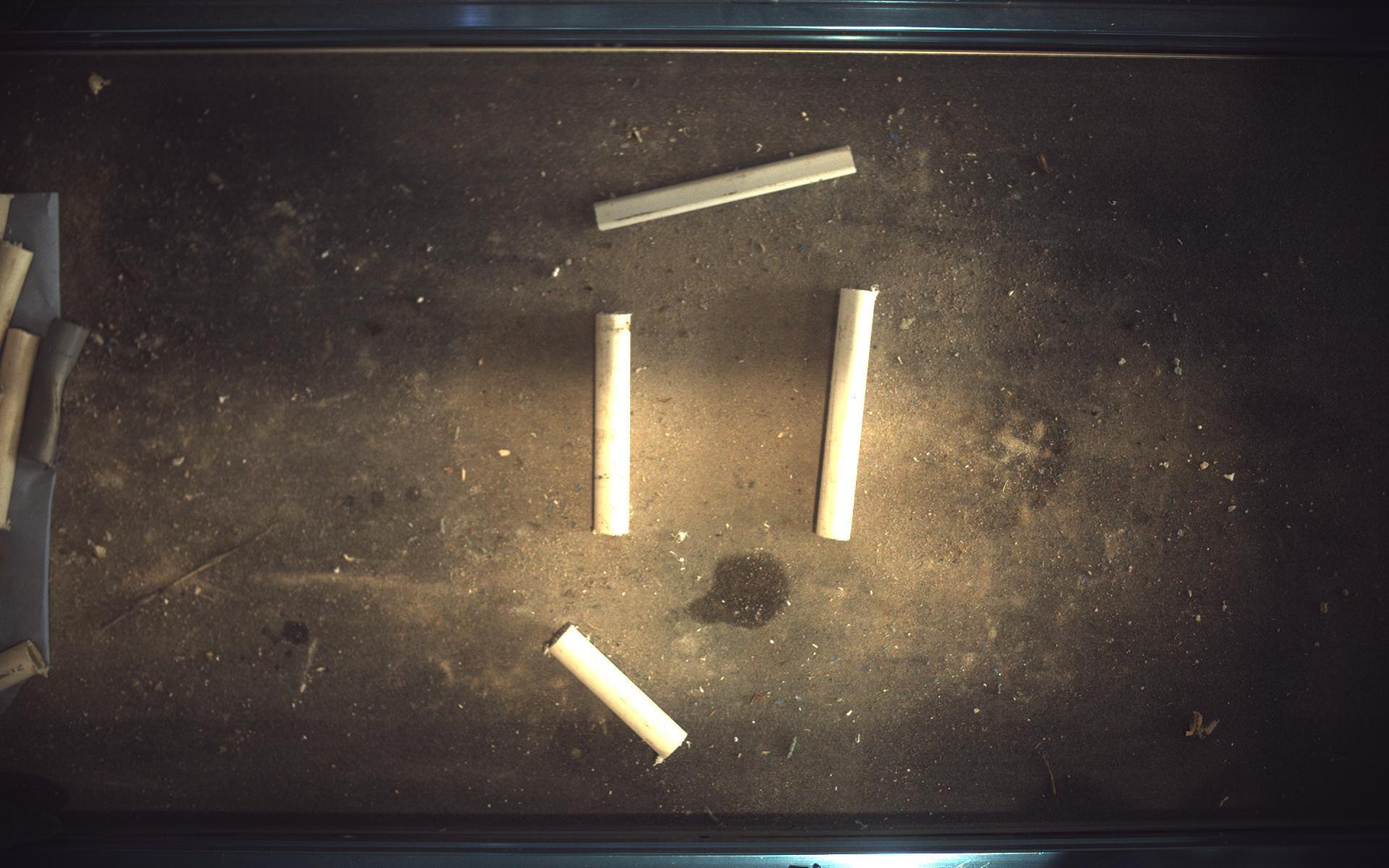pipes: (545, 623, 688, 765), (817, 288, 879, 541), (17, 318, 88, 468), (593, 312, 632, 536), (1, 328, 38, 529), (1, 239, 32, 345), (1, 641, 46, 692)
plastic: (595, 145, 858, 230)
